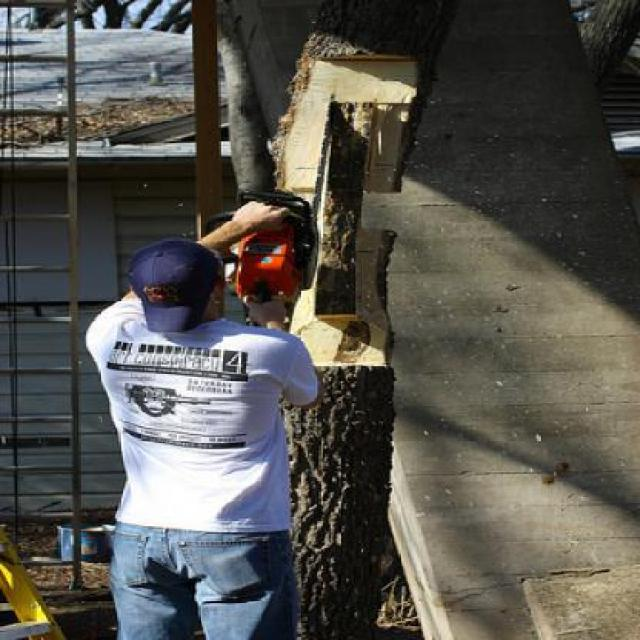Chainsaw: (194, 91, 338, 311)
